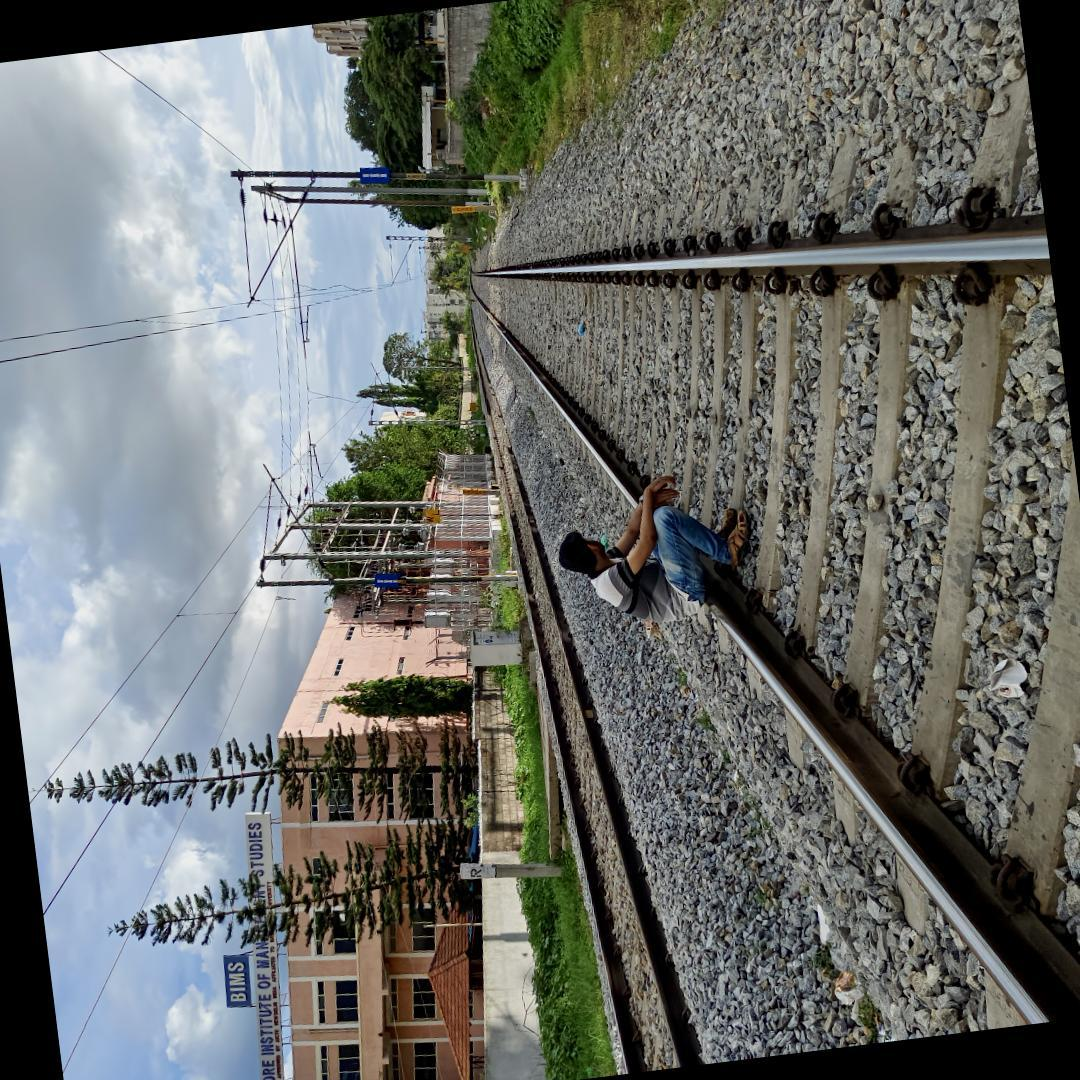sitting: (534, 452, 772, 645)
